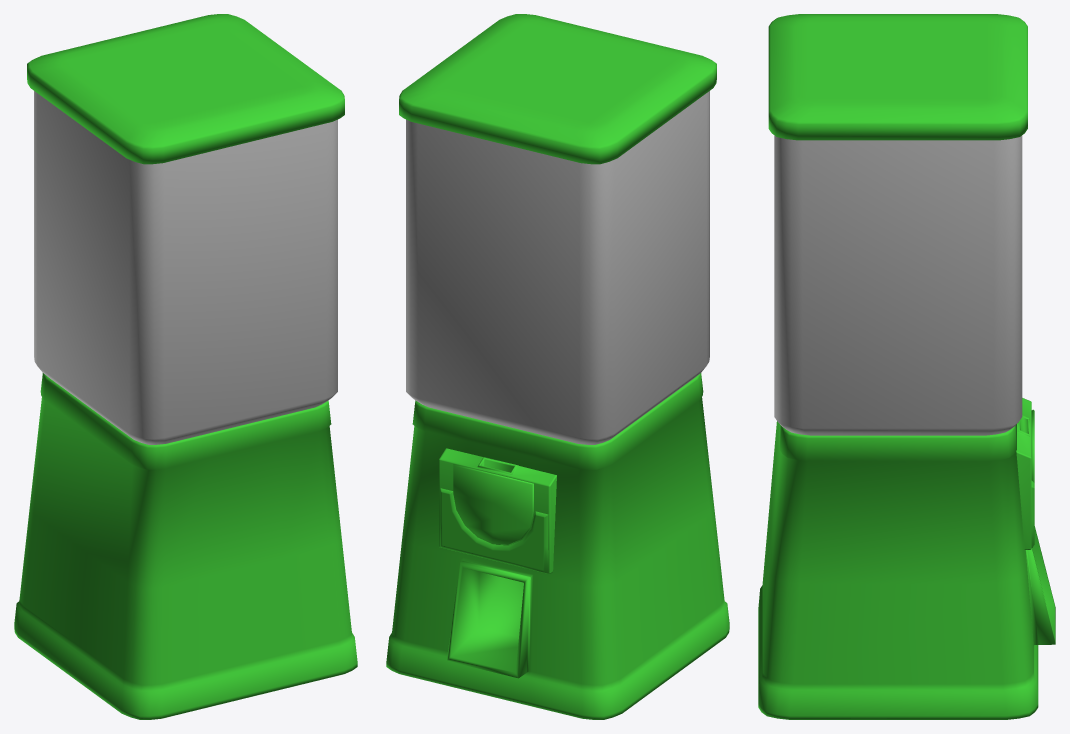
Rendered from VMP_MOD_Bulk_machine_01.fbx.
3 renders of one model, left to right at view 1: azimuth 30°, elevation 25°; view 2: azimuth 150°, elevation 25°; view 3: azimuth 270°, elevation 25°, orthographic. The views are drawn at different scales.
Visible parts, largest first — view 1: VMP_MOD_Bulk_machine_01; view 2: VMP_MOD_Bulk_machine_01; view 3: VMP_MOD_Bulk_machine_01.
Part boxes in pixels (left/top/right/bottom): VMP_MOD_Bulk_machine_01: left=14, top=14, right=357, bottom=719; VMP_MOD_Bulk_machine_01: left=386, top=14, right=729, bottom=719; VMP_MOD_Bulk_machine_01: left=758, top=14, right=1055, bottom=719.
Size of the model in its own units: 0.4611 by 1.09 by 0.4897.
